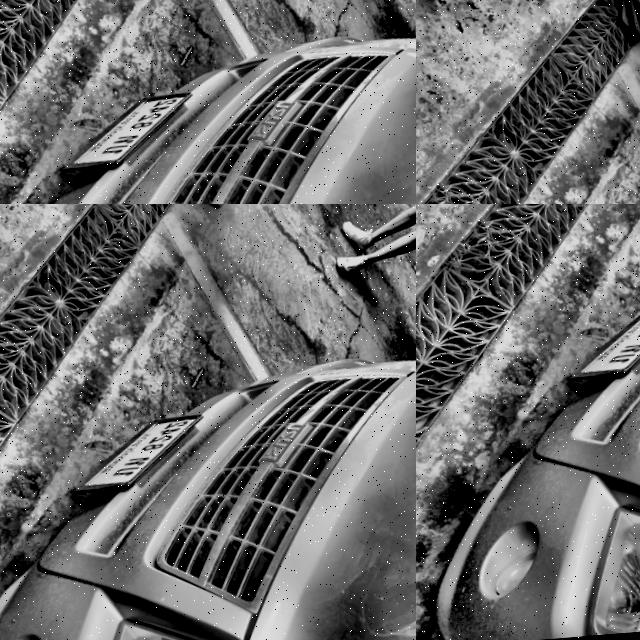license-plate: (549, 300, 640, 392)
